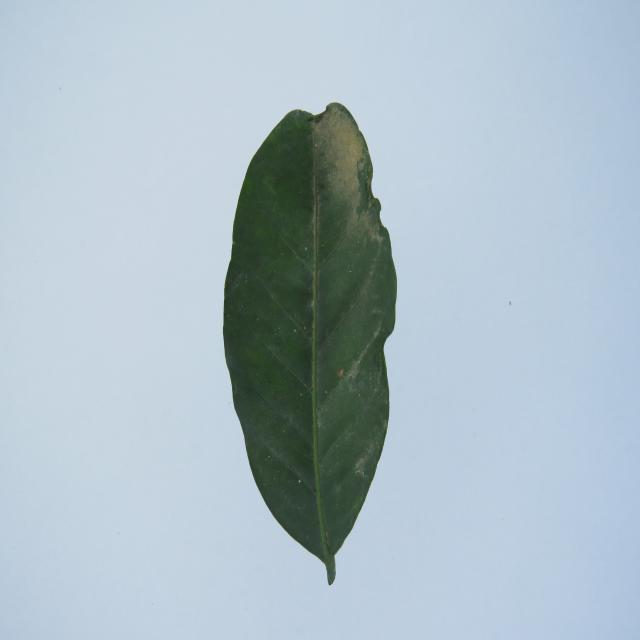DeficienciaNutricional-Boro: (224, 103, 396, 583)
